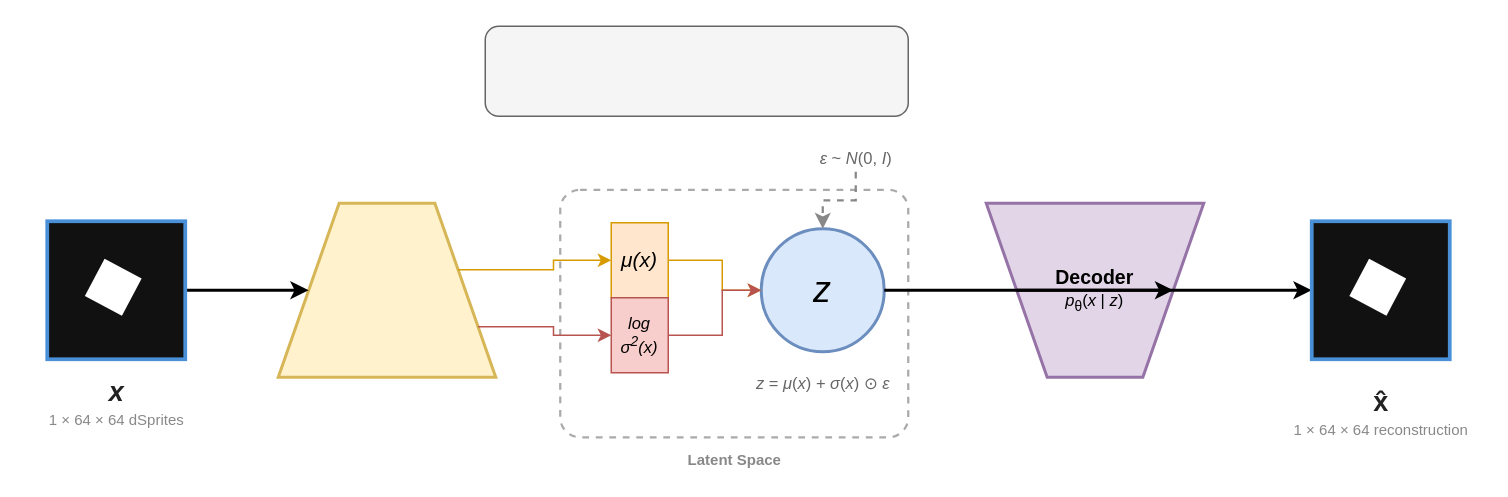
Some shapes in this 1508 by 497 pixel diagram are drawn without their labels. Each missing label, with the centre of its shape:
"Encoder q φ ( z | x )" goes at point (386, 289).
"Held-out factors: Orientation • Scale" goes at point (696, 70).
